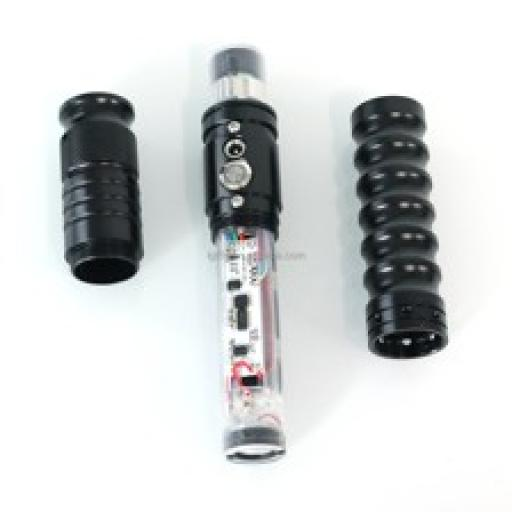lightsaber: (200, 43, 296, 476)
